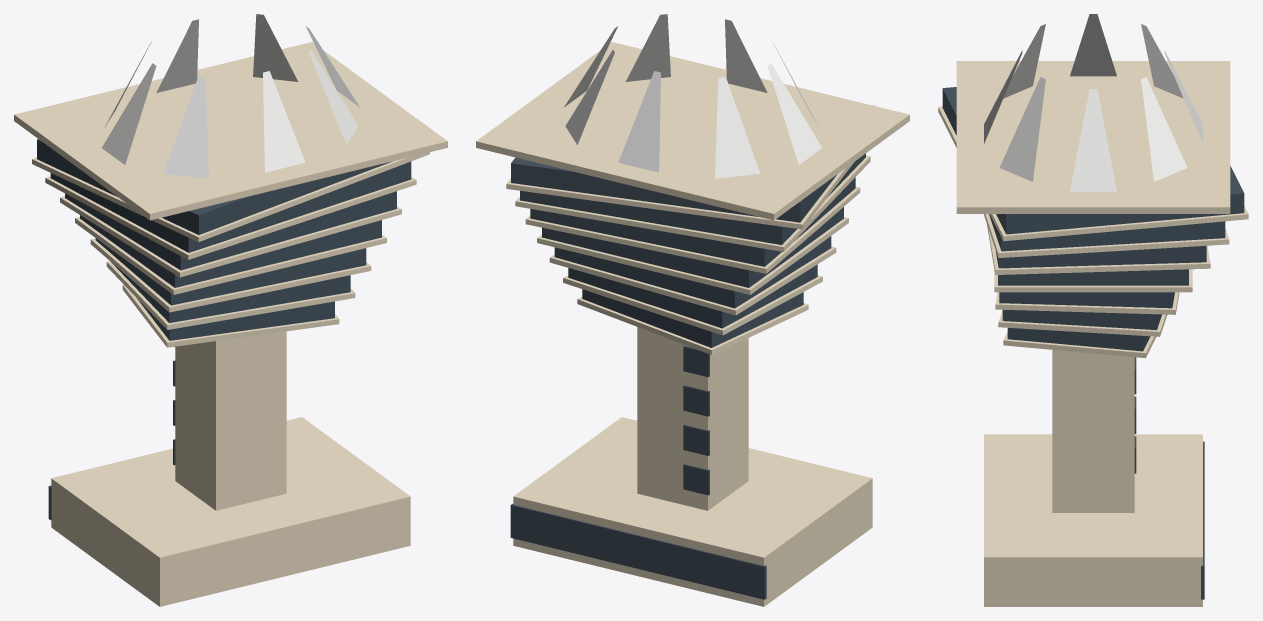
Rendered from sakhir_tower.glb.
The picture shows the model from 3 angles, left to right: view 1: azimuth 30°, elevation 25°; view 2: azimuth 150°, elevation 25°; view 3: azimuth 270°, elevation 25°; orthographic projection.
Visible parts, largest first — view 1: sakhir_tower.001; view 2: sakhir_tower.001; view 3: sakhir_tower.001.
Boxes of the visible parts, left/top/right/bottom form: sakhir_tower.001: left=14, top=14, right=447, bottom=606; sakhir_tower.001: left=476, top=14, right=909, bottom=606; sakhir_tower.001: left=938, top=14, right=1248, bottom=606.
Size of the model in its own units: 39.37 by 59.8 by 34.07.
